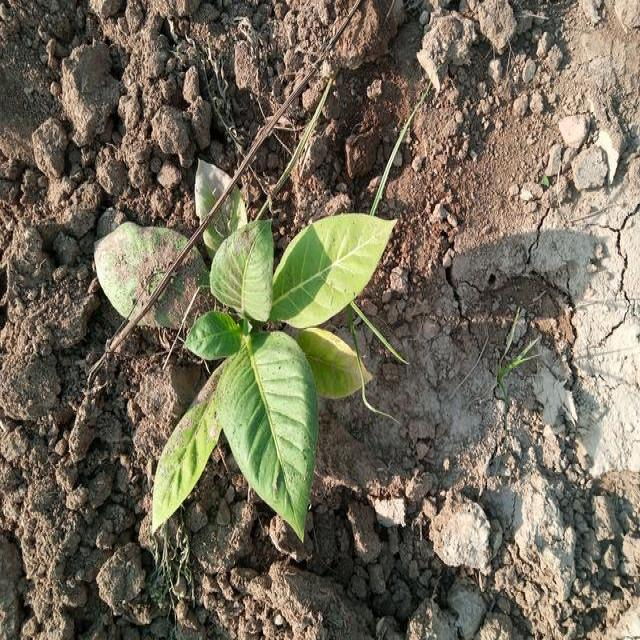crop: (166, 211, 391, 514)
